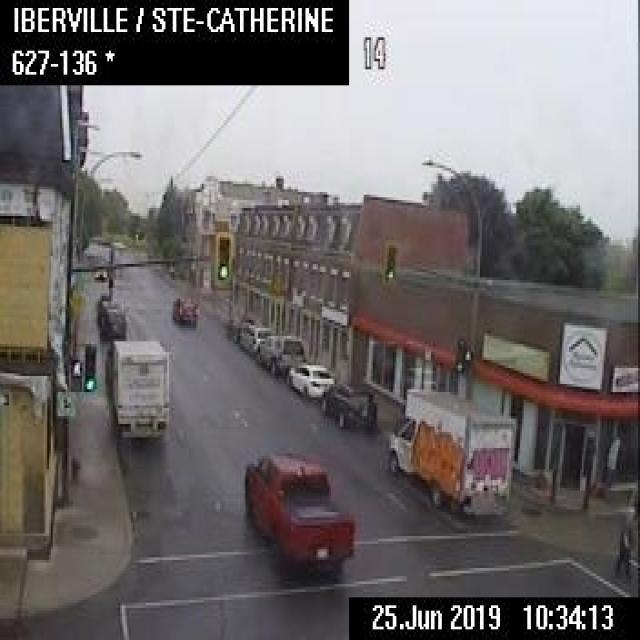pedestrian: (610, 520, 631, 579)
vehicle: (387, 384, 515, 515), (242, 443, 353, 581), (104, 338, 168, 436), (319, 379, 376, 426), (257, 333, 305, 377), (286, 360, 334, 397), (237, 321, 270, 353), (98, 305, 126, 338), (223, 314, 254, 342), (171, 296, 197, 320), (95, 292, 116, 321), (94, 268, 106, 279)
